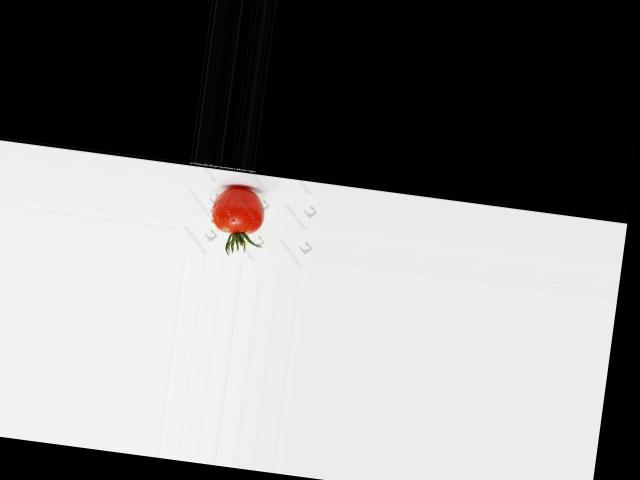tomato: (211, 183, 268, 236)
